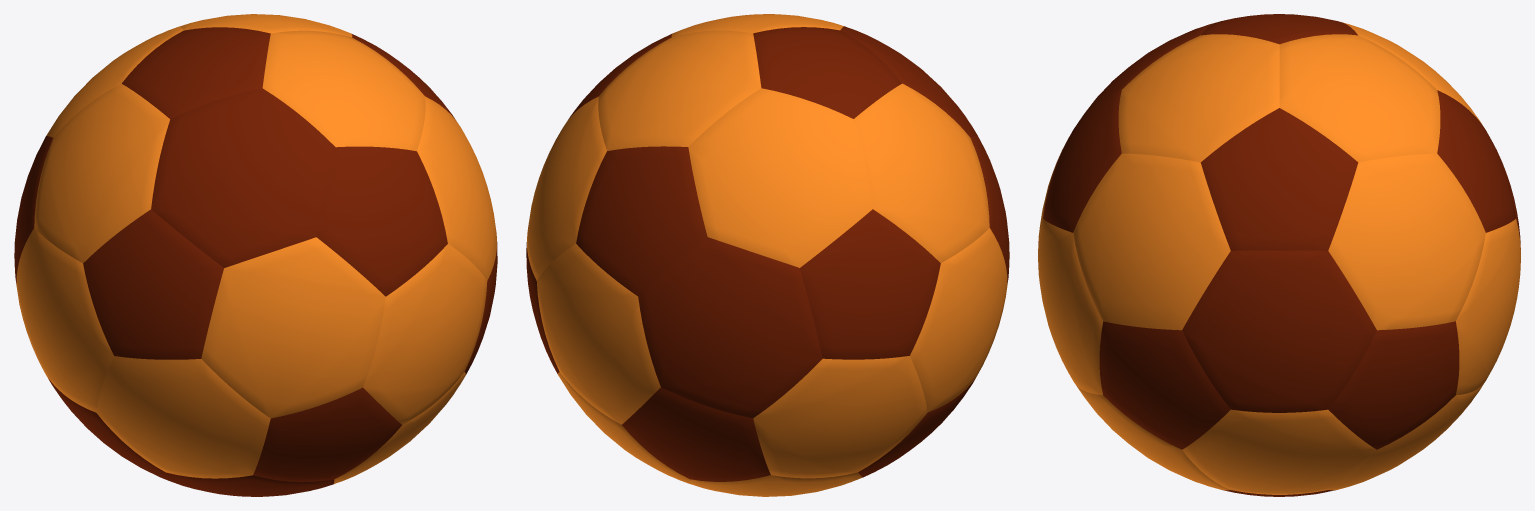
Rendered from Ball3.fbx.
3 views of the same model, side by side, from view 1: azimuth 30°, elevation 25°; view 2: azimuth 150°, elevation 25°; view 3: azimuth 270°, elevation 25° (orthographic).
Parts seen in each view (by area): view 1: Ball; view 2: Ball; view 3: Ball.
Boxes of the visible parts, x1,y1,x2,y2 form: Ball: (14, 14, 497, 496); Ball: (526, 14, 1009, 496); Ball: (1038, 14, 1520, 496).
Size of the model in its own units: 0.9958 by 0.997 by 0.9966.
